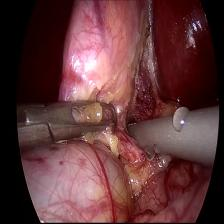Grasper: (56, 100, 122, 140)
Irrigator: (126, 119, 146, 146)
